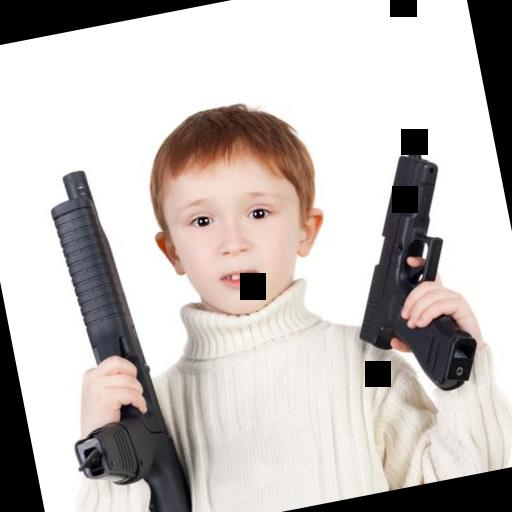Handgun: (11, 159, 195, 512), (325, 144, 477, 408)
